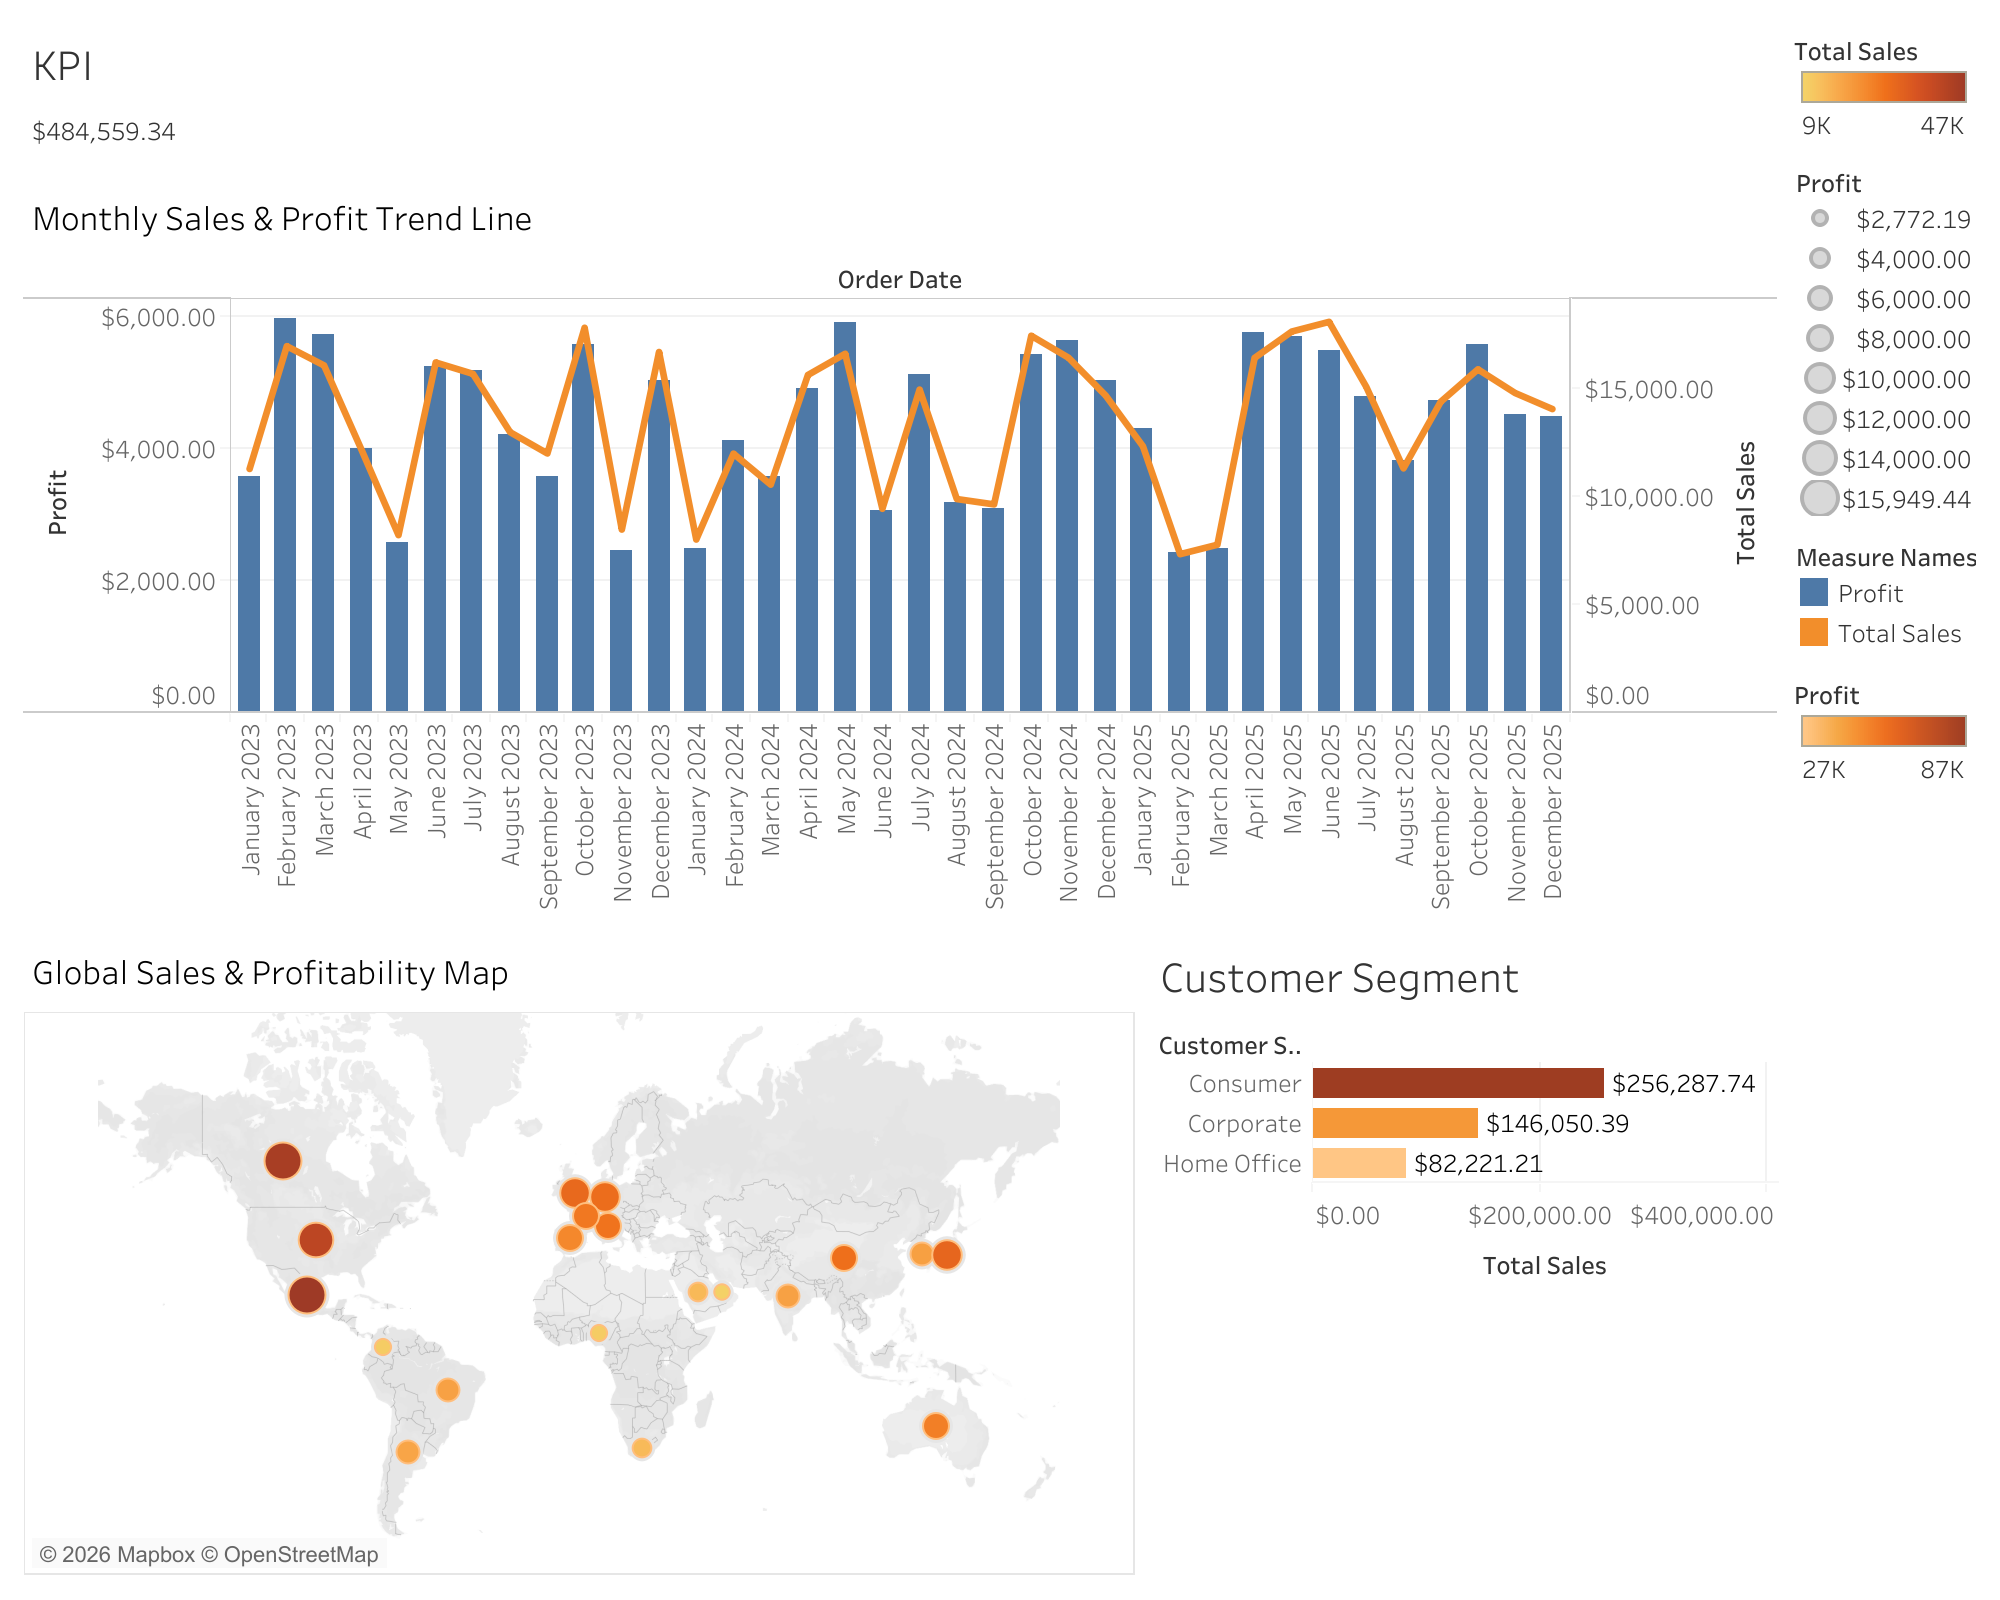

This screenshot's page, from the dashboard's own definition file:
{"tool":"tableau","page":{"name":"Executive Overview Dashboard","canvas":[1000,800],"ordinal":0},"visuals":[{"type":"worksheet","title":"KPI","mark":"Text","box":[8,8,885,79]},{"type":"legend","title":"Global Sales & Profitability Map","param":"[federated.1rv59x7198itxz1ejjzr90bzzlbc].[sum:Total_Sales:qk]","box":[893,8,99,68]},{"type":"legend","title":"Global Sales & Profitability Map","param":"[federated.1rv59x7198itxz1ejjzr90bzzlbc].[sum:Profit:qk]","box":[893,76,99,187]},{"type":"worksheet","title":"Monthly Sales & Profit Trend","mark":"Automatic","rows":["Profit","Total_Sales"],"cols":["Order_Date"],"box":[8,87,885,377]},{"type":"legend","title":"Monthly Sales & Profit Trend","param":"[federated.1rv59x7198itxz1ejjzr90bzzlbc].[:Measure Names]","box":[893,263,99,67]},{"type":"legend","title":"Customer Segment","param":"[federated.1rv59x7198itxz1ejjzr90bzzlbc].[sum:Profit:qk]","box":[893,330,99,68]},{"type":"worksheet","title":"Global Sales & Profitability Map","mark":"Automatic","box":[8,464,564.4,328]},{"type":"worksheet","title":"Customer Segment","mark":"Bar","rows":["Customer_Segment"],"cols":["Total_Sales"],"box":[572.4,464,320.6,328]}]}

Visuals, with their boxes in screenshot pixels (x1, y1, x2, y2), scaled from the page's 1000x800 canvas onto the 2000x1600 screenshot:
"KPI" worksheet (Text marks): pyautogui.locateOnScreen(16, 16, 1786, 174)
"Global Sales & Profitability Map" legend: pyautogui.locateOnScreen(1786, 16, 1984, 152)
"Global Sales & Profitability Map" legend: pyautogui.locateOnScreen(1786, 152, 1984, 526)
"Monthly Sales & Profit Trend" worksheet: pyautogui.locateOnScreen(16, 174, 1786, 928)
"Monthly Sales & Profit Trend" legend: pyautogui.locateOnScreen(1786, 526, 1984, 660)
"Customer Segment" legend: pyautogui.locateOnScreen(1786, 660, 1984, 796)
"Global Sales & Profitability Map" worksheet: pyautogui.locateOnScreen(16, 928, 1145, 1584)
"Customer Segment" worksheet (Bar marks): pyautogui.locateOnScreen(1145, 928, 1786, 1584)
